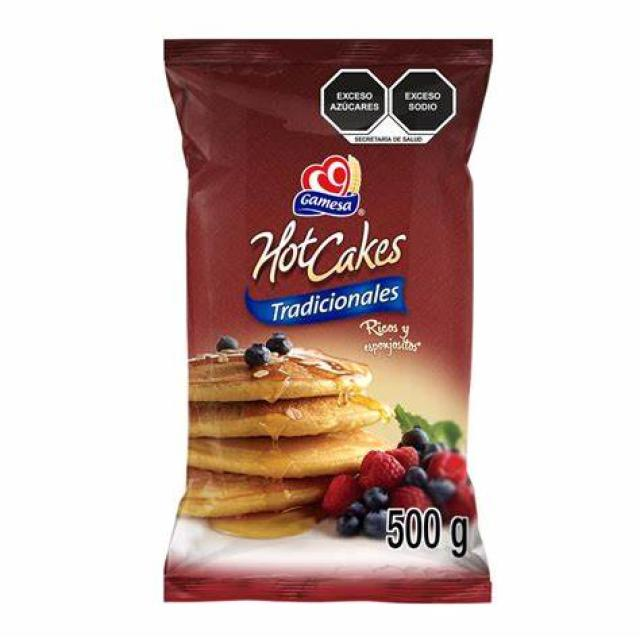Caja: (155, 27, 505, 605)
